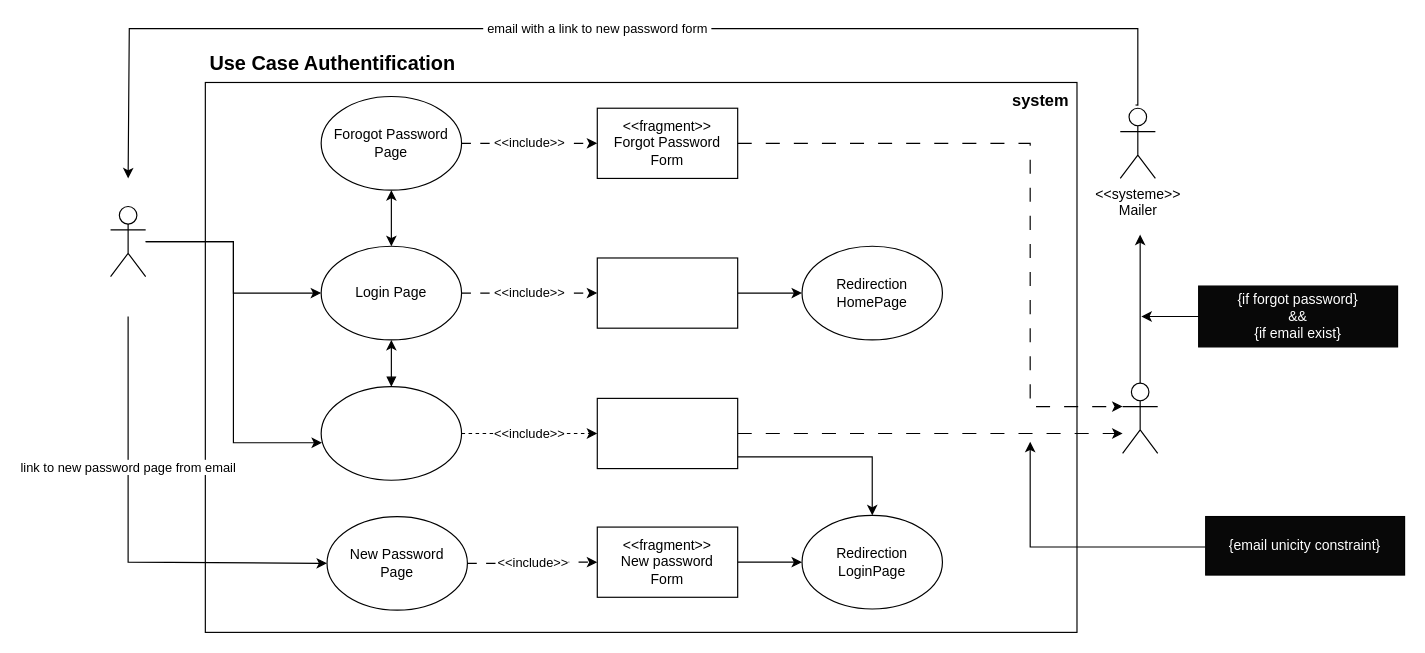
Some shapes in this 1425 by 653 pixel diagram are drawn without their labels. The box of each missing label's shape, as (x1, y1, x2, y2) in pixels:
<<fragment>> Authentification Form: (596, 257, 738, 328)
<<fragment>> Register Form: (596, 397, 738, 469)
<<systeme>> Database: (1121, 382, 1158, 453)
Register Page: (320, 386, 462, 480)
User: (109, 205, 146, 277)
